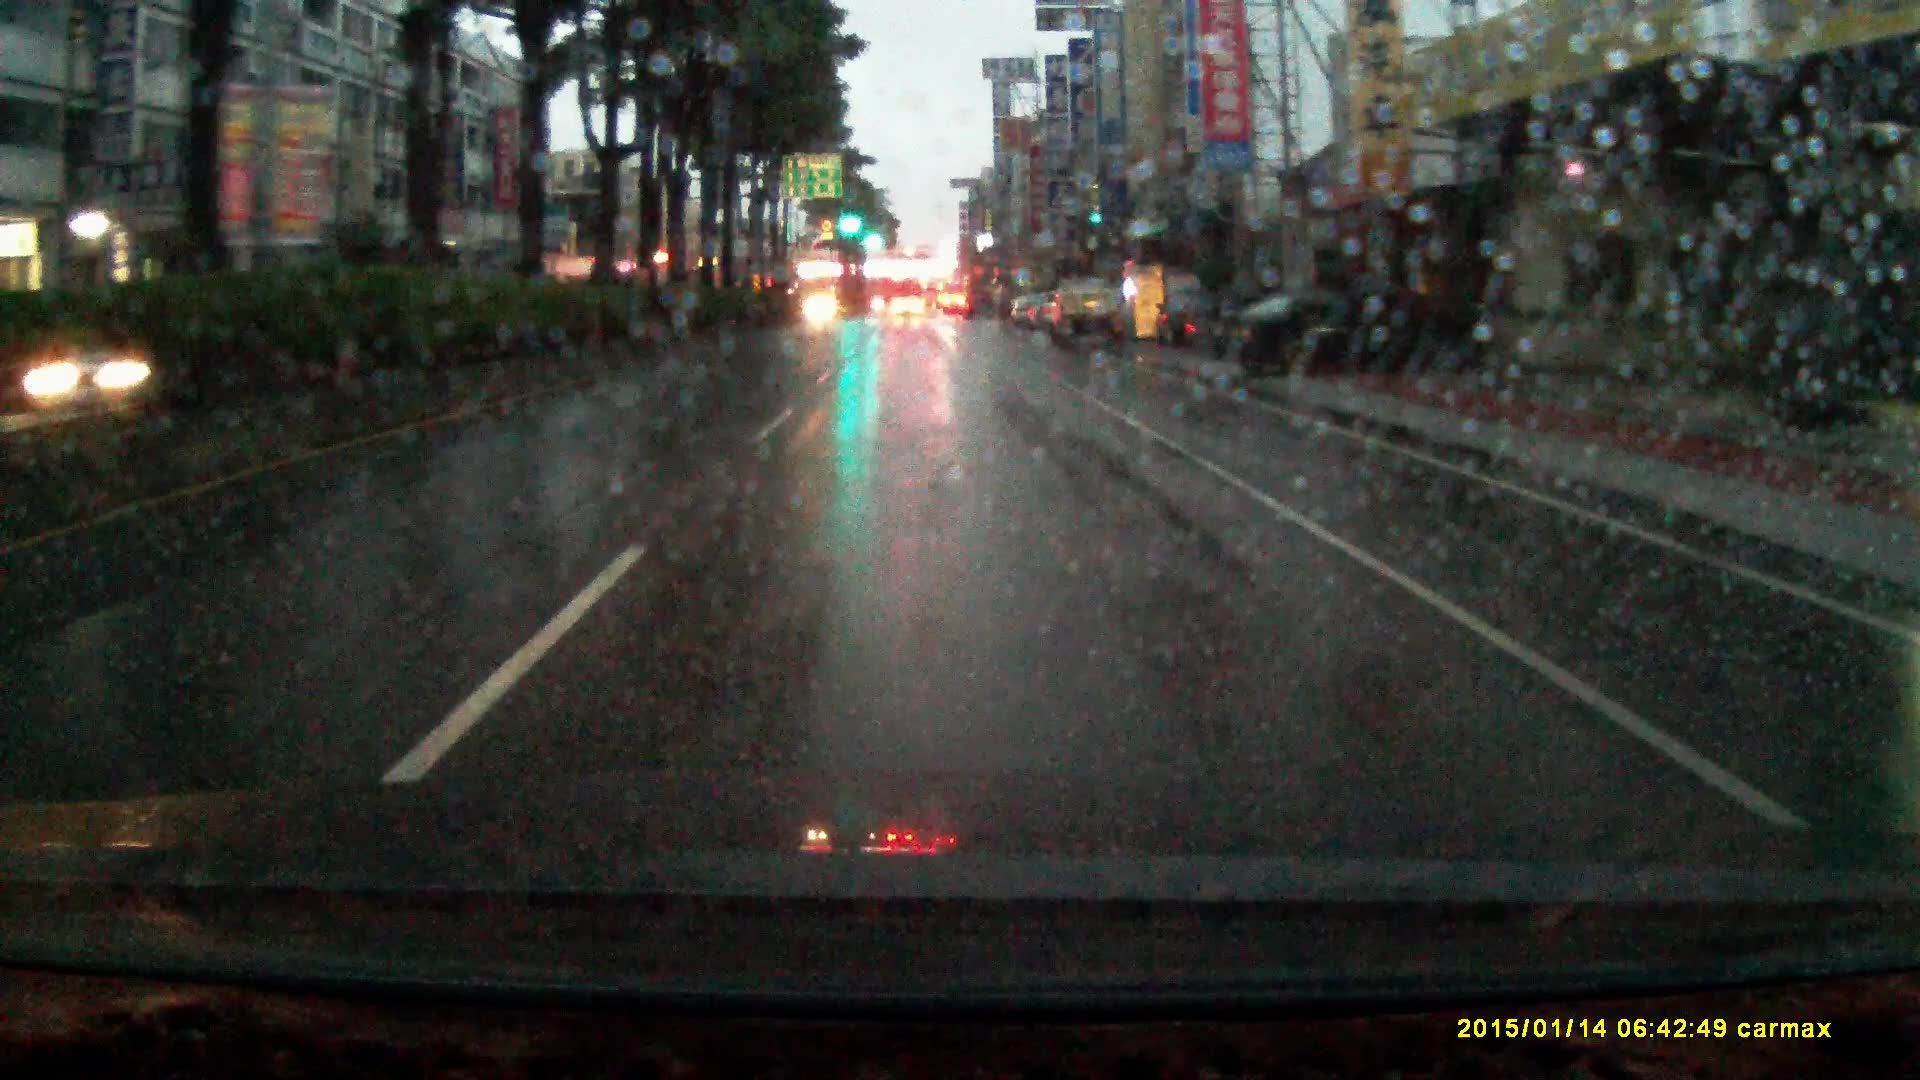vehicle: (1193, 294, 1487, 378), (1153, 294, 1232, 357), (1054, 280, 1122, 351), (802, 298, 843, 334), (890, 301, 927, 324), (923, 281, 945, 316)
